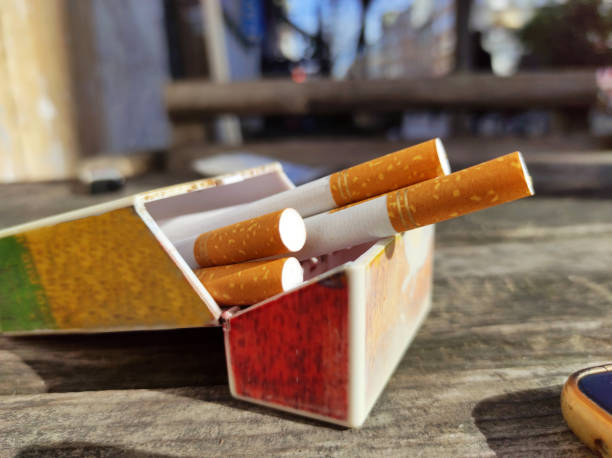cigarette: (0, 158, 438, 431), (159, 136, 453, 242), (298, 150, 534, 262), (173, 206, 308, 269), (192, 255, 304, 306)
